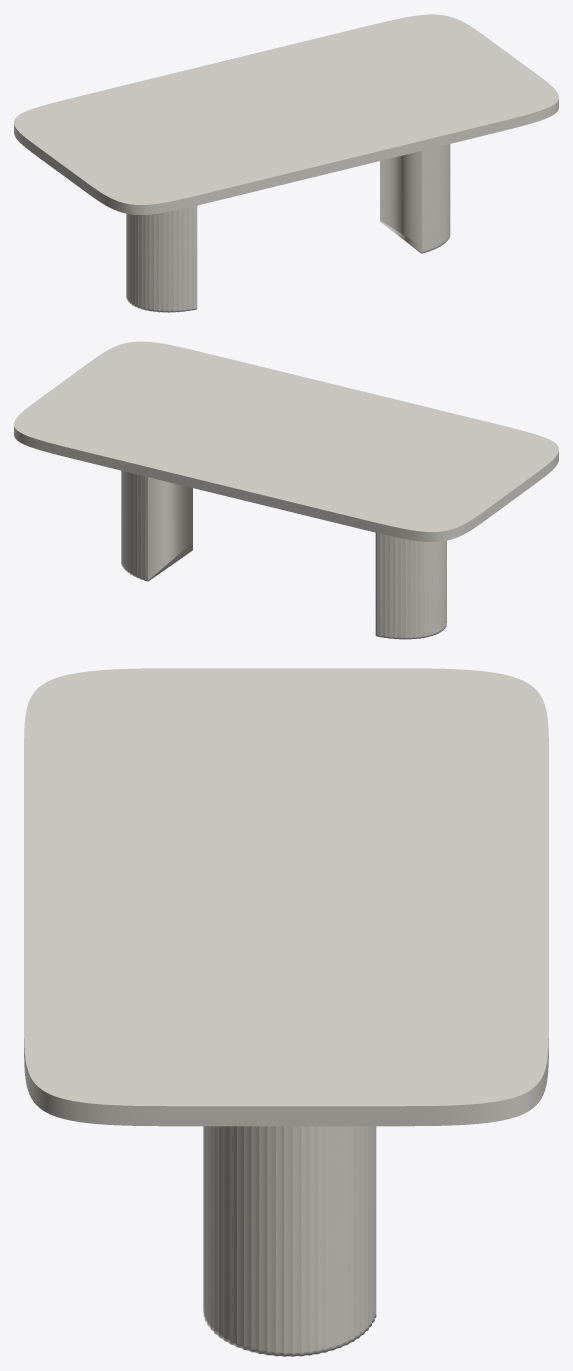
Rendered from pale_softrecta_standard_flute.glb.
The picture shows the model from 3 angles, top to bottom: view 1: azimuth 30°, elevation 25°; view 2: azimuth 150°, elevation 25°; view 3: azimuth 270°, elevation 25°; orthographic projection. The views are drawn at different scales.
Parts seen in each view (by area): view 1: standard_softrecta, flute; view 2: standard_softrecta, flute; view 3: standard_softrecta, flute.
Part boxes in pixels (box(x1,y1,x2,y2)): standard_softrecta: box(14, 14, 558, 214); flute: box(126, 144, 450, 312); standard_softrecta: box(14, 341, 558, 541); flute: box(121, 470, 446, 639); standard_softrecta: box(24, 668, 548, 1126); flute: box(203, 1126, 376, 1356).
Size of the model in its own units: 7.5 by 2.5 by 3.8.
Materials: 1 (1 with a texture image).
